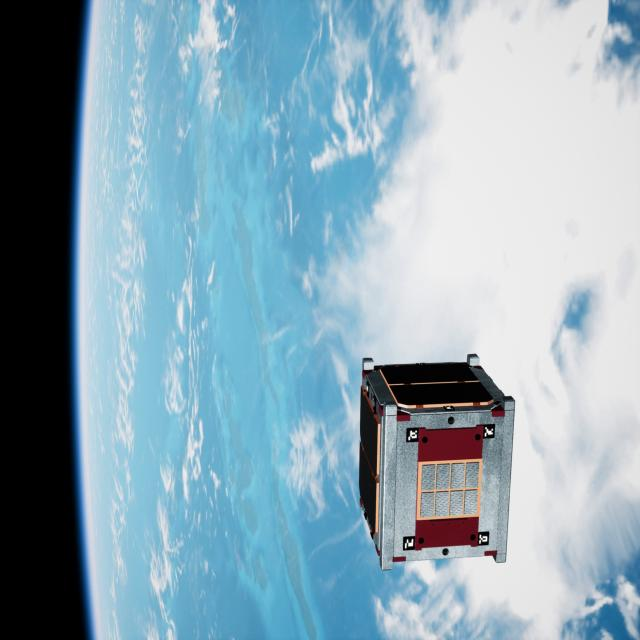medium_debris: (344, 352, 516, 566)
